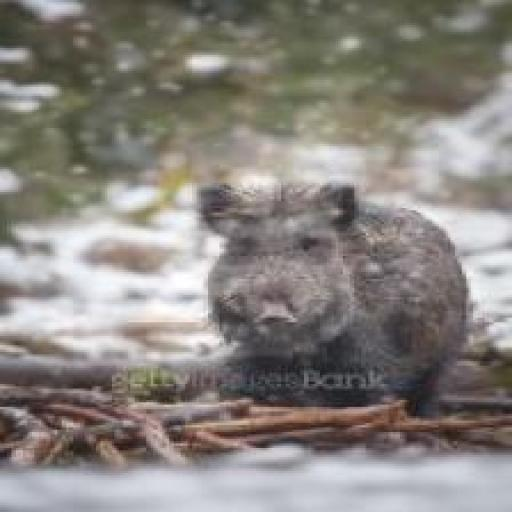Pig: (187, 180, 480, 431)
